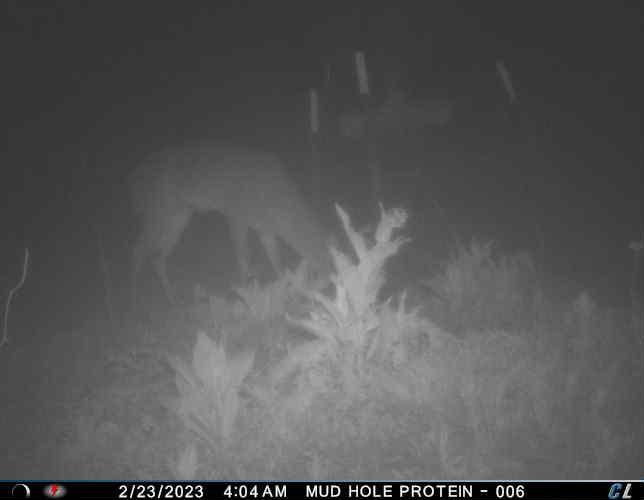Deer: (124, 137, 351, 305)
